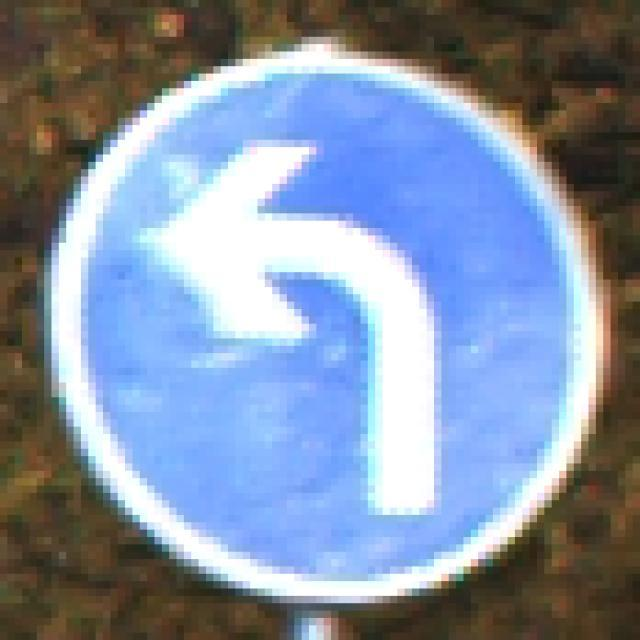compulsary turn left ahead: (48, 51, 604, 605)
